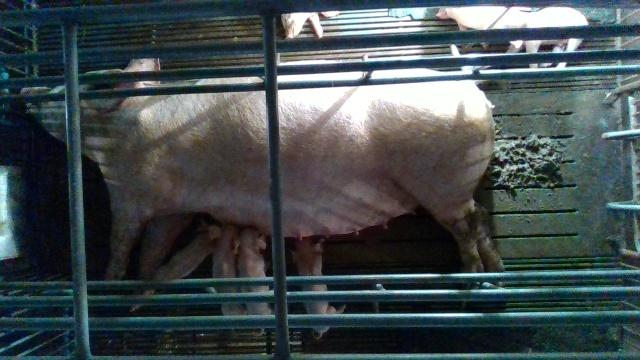piglet: (287, 235, 347, 340), (147, 218, 222, 294), (507, 8, 591, 69), (437, 5, 532, 57), (234, 225, 276, 338), (208, 216, 240, 317), (281, 9, 344, 39)
sow-sleep-lactate: (20, 57, 506, 312)
